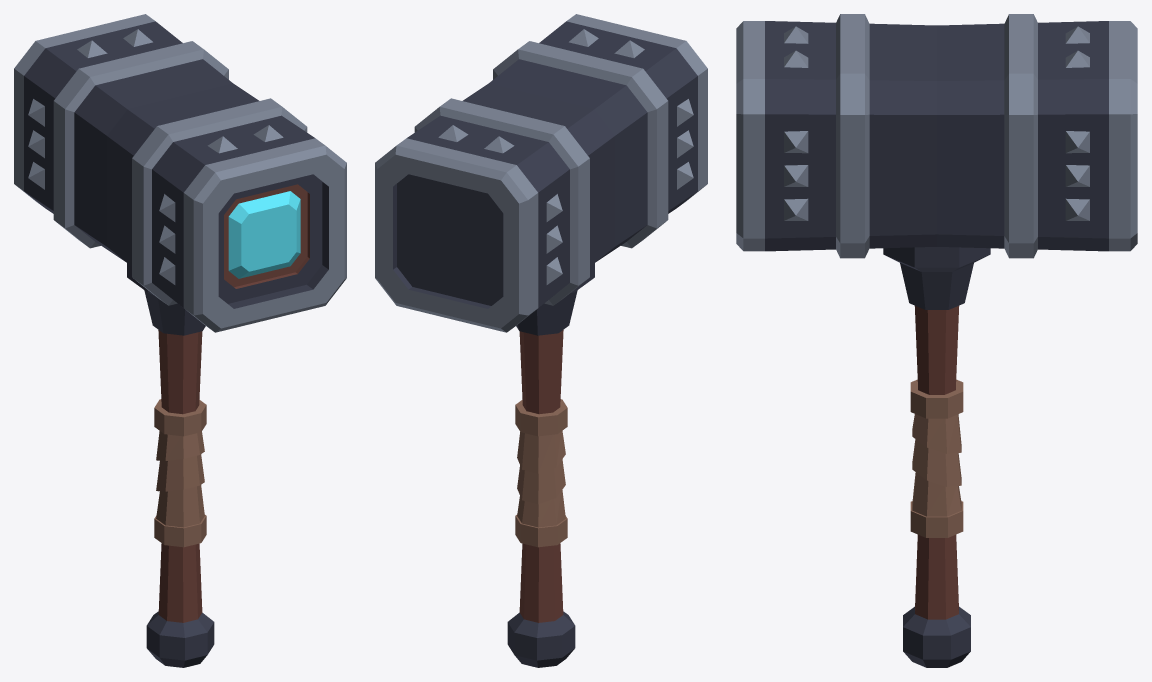
File: club-and-mace-34b88c.glb
3 views of the same model, side by side, from view 1: azimuth 30°, elevation 25°; view 2: azimuth 150°, elevation 25°; view 3: azimuth 270°, elevation 25° (orthographic). The views are drawn at different scales.
Visible parts, largest first — view 1: head-metal, haft-matte, head-crystal, haft-metal, head-matte; view 2: head-metal, haft-matte, haft-metal; view 3: head-metal, haft-matte, haft-metal.
Boxes of the visible parts, <box> form: head-metal: <box>14,14,346,335</box>; haft-matte: <box>154,330,206,622</box>; head-crystal: <box>228,191,300,278</box>; haft-metal: <box>146,611,214,667</box>; head-matte: <box>224,184,309,288</box>; head-metal: <box>375,14,707,335</box>; haft-matte: <box>515,330,567,622</box>; haft-metal: <box>507,611,575,667</box>; head-metal: <box>736,14,1137,309</box>; haft-matte: <box>910,306,963,619</box>; haft-metal: <box>903,606,970,667</box>.
Bounding box in the file's own units: 0.2097 × 0.6636 × 0.39.
